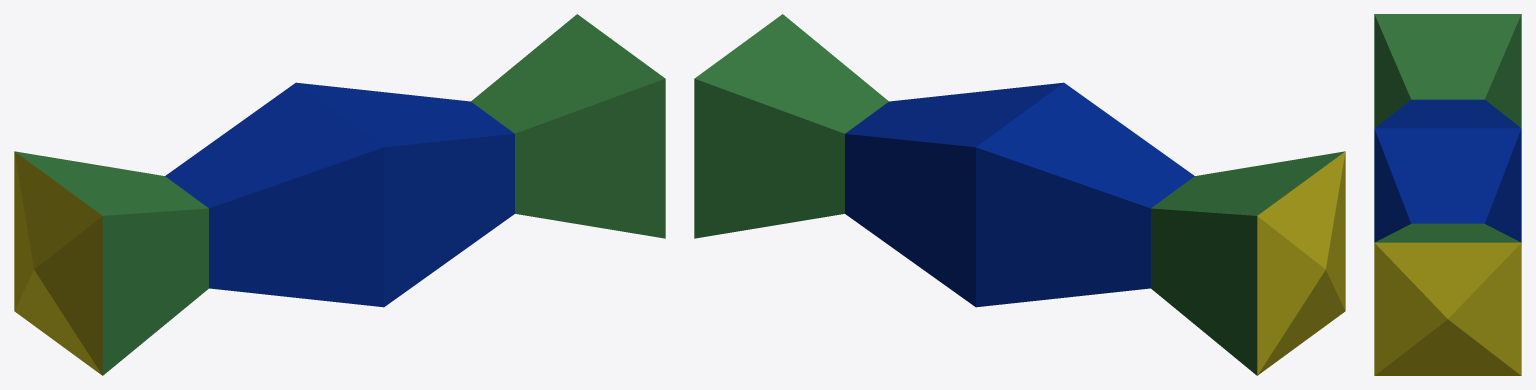
File: block_3.fbx
3 renders of one model, left to right at view 1: azimuth 30°, elevation 25°; view 2: azimuth 150°, elevation 25°; view 3: azimuth 270°, elevation 25°, orthographic. The views are drawn at different scales.
Visible parts, largest first — view 1: 3DGeom~25, 3DGeom~26, 3DGeom~27; view 2: 3DGeom~25, 3DGeom~26, 3DGeom~27; view 3: 3DGeom~27, 3DGeom~25, 3DGeom~26.
Part boxes in pixels (<box>): 3DGeom~25: <box>165,82,514,307</box>; 3DGeom~26: <box>15,14,665,375</box>; 3DGeom~27: <box>14,151,102,375</box>; 3DGeom~25: <box>845,82,1194,307</box>; 3DGeom~26: <box>694,14,1344,375</box>; 3DGeom~27: <box>1257,151,1345,375</box>; 3DGeom~27: <box>1374,242,1521,375</box>; 3DGeom~25: <box>1374,99,1521,242</box>; 3DGeom~26: <box>1374,14,1521,242</box>.
Bounding box in the file's own units: 0.2 × 0.05 × 0.05.
